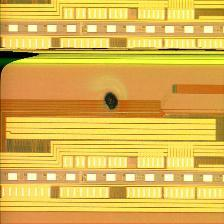PARTICLE: (104, 92, 121, 113)
